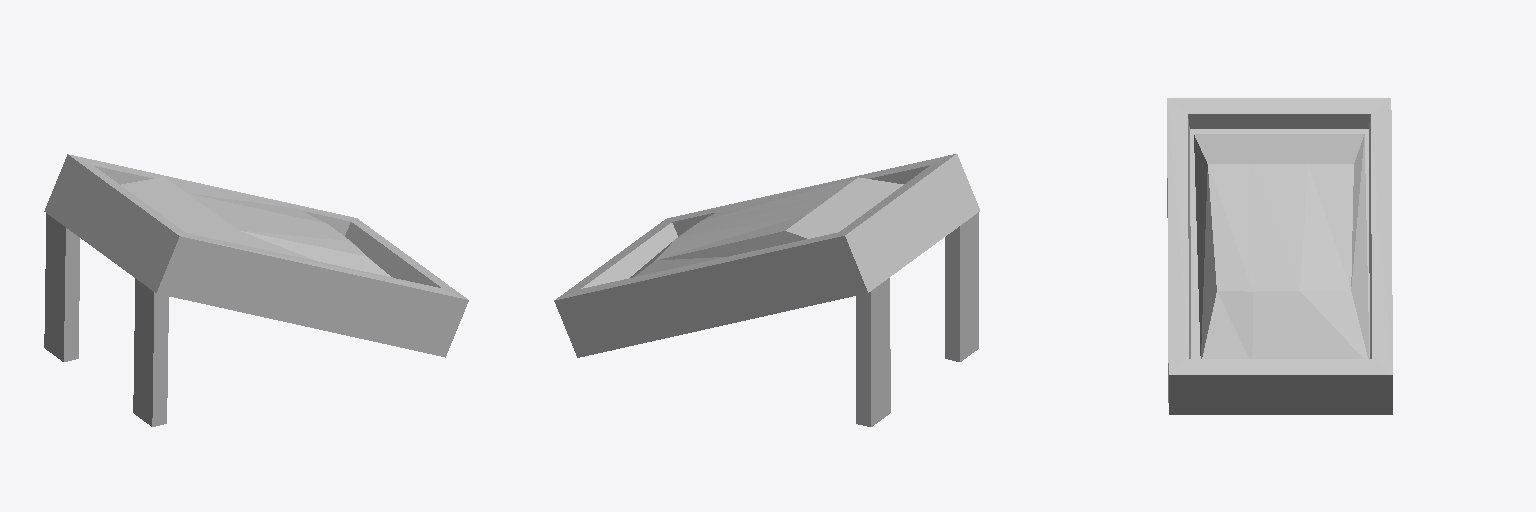
The model's file is market_tray_filled_grapes.obj.
3 views of the same model, side by side, from view 1: azimuth 30°, elevation 25°; view 2: azimuth 150°, elevation 25°; view 3: azimuth 270°, elevation 25° (orthographic).
Visible parts, largest first — view 1: Market_Tray_Filled_Cube.004; view 2: Market_Tray_Filled_Cube.004; view 3: Market_Tray_Filled_Cube.004.
Boxes of the visible parts, <box> form: Market_Tray_Filled_Cube.004: <box>44,154,468,426</box>; Market_Tray_Filled_Cube.004: <box>554,154,979,426</box>; Market_Tray_Filled_Cube.004: <box>1167,98,1392,414</box>.
Bounding box in the file's own units: 1.08 × 0.6129 × 0.6711.